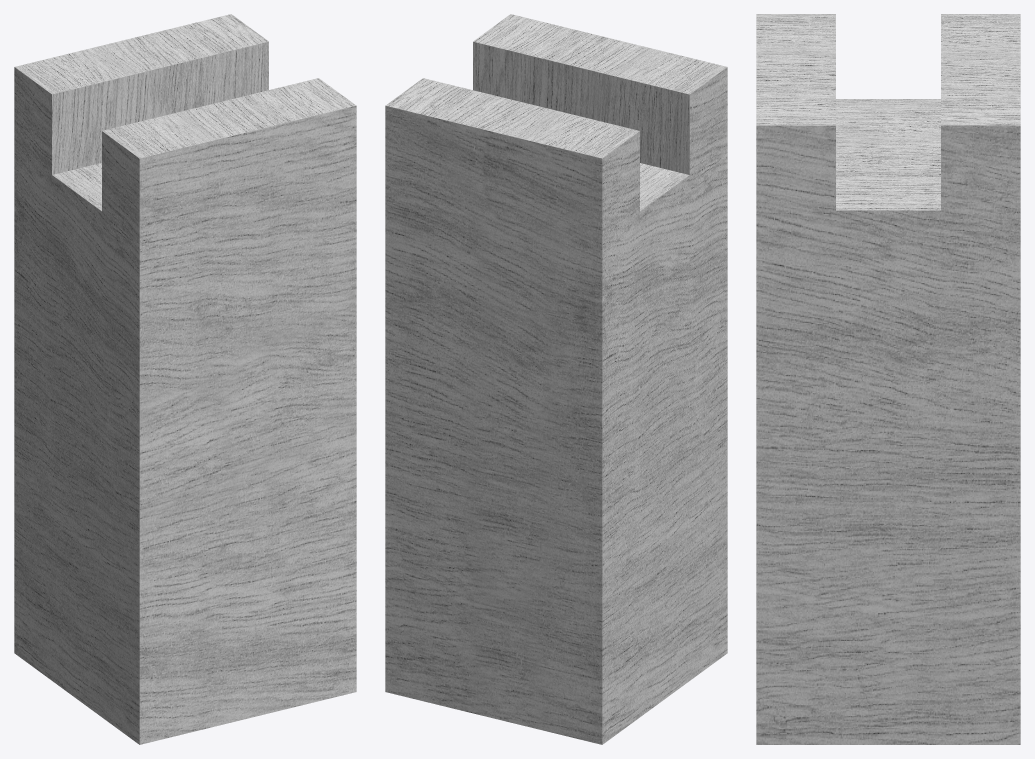
File: queen.obj
3 renders of one model, left to right at view 1: azimuth 30°, elevation 25°; view 2: azimuth 150°, elevation 25°; view 3: azimuth 270°, elevation 25°, orthographic. The views are drawn at different scales.
Visible parts, largest first — view 1: queen; view 2: queen; view 3: queen.
Boxes of the visible parts, left/top/right/bottom form: queen: left=14, top=14, right=356, bottom=744; queen: left=385, top=14, right=727, bottom=744; queen: left=756, top=14, right=1020, bottom=744.
Bounding box in the file's own units: 1.27 × 3.28 × 1.27.
